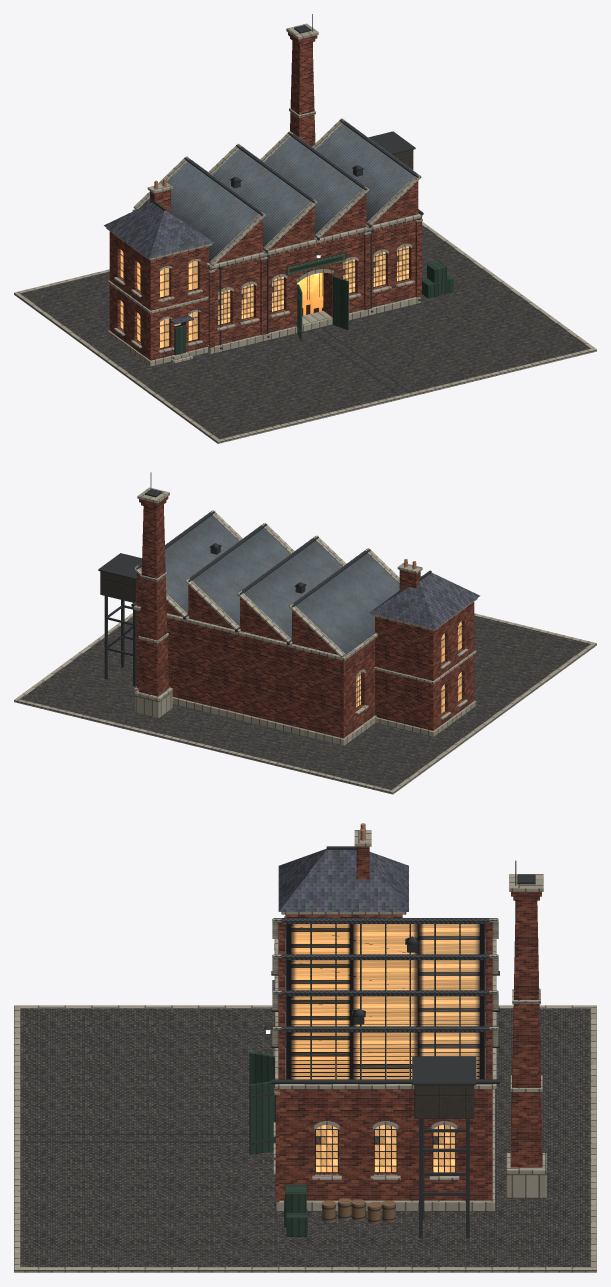
File: factory-a.glb
The picture shows the model from 3 angles, top to bottom: view 1: azimuth 30°, elevation 25°; view 2: azimuth 150°, elevation 25°; view 3: azimuth 270°, elevation 25°; orthographic projection. The views are drawn at different scales.
Parts seen in each view (by area): view 1: forecourt, walls, office, roof-0, roof-2, roof-3, roof-1, office-roof, chimney, kerb-0, plinth, kerb-2 (+10 smaller); view 2: forecourt, walls, office, roof-0, chimney, roof-2, roof-1, office-roof, roof-3, kerb-1, plinth, kerb-2 (+11 smaller); view 3: forecourt, walls, north-light-3, chimney, office-roof, north-light-1, north-light-0, north-light-2, kerb-3, tank, tank-lid, cornice (+20 smaller).
Part boxes in pixels (bbox=[...]): forecourt: bbox=[21, 226, 590, 439]; walls: bbox=[215, 219, 415, 345]; office: bbox=[109, 231, 208, 360]; roof-0: bbox=[134, 156, 265, 265]; roof-2: bbox=[264, 131, 369, 239]; roof-3: bbox=[316, 118, 421, 227]; roof-1: bbox=[212, 144, 317, 252]; office-roof: bbox=[104, 202, 214, 258]; chimney: bbox=[290, 40, 315, 146]; kerb-0: bbox=[216, 348, 596, 443]; plinth: bbox=[207, 297, 420, 354]; kerb-2: bbox=[15, 292, 219, 442]; forecourt: bbox=[20, 616, 589, 789]; walls: bbox=[136, 610, 374, 738]; office: bbox=[375, 602, 474, 730]; roof-0: bbox=[289, 549, 399, 656]; chimney: bbox=[138, 504, 168, 696]; roof-2: bbox=[186, 523, 290, 631]; roof-1: bbox=[237, 536, 342, 644]; office-roof: bbox=[369, 573, 480, 628]; roof-3: bbox=[134, 511, 238, 619]; kerb-1: bbox=[14, 699, 394, 794]; plinth: bbox=[134, 687, 376, 745]; kerb-2: bbox=[392, 643, 595, 793]; forecourt: bbox=[20, 1008, 590, 1266]; walls: bbox=[279, 1089, 492, 1200]; north-light-3: bbox=[287, 1032, 483, 1079]; chimney: bbox=[510, 900, 542, 1167]; office-roof: bbox=[278, 848, 408, 911]; north-light-1: bbox=[287, 960, 483, 990]; north-light-0: bbox=[287, 924, 483, 954]; north-light-2: bbox=[287, 996, 483, 1026]; kerb-3: bbox=[18, 1267, 592, 1272]; tank: bbox=[414, 1085, 474, 1118]; tank-lid: bbox=[412, 1056, 476, 1085]; cornice: bbox=[274, 939, 496, 1089].
Size of the model in its own units: 5.86 by 3.48 by 5.46.
Materials: 19 (14 with a texture image).
